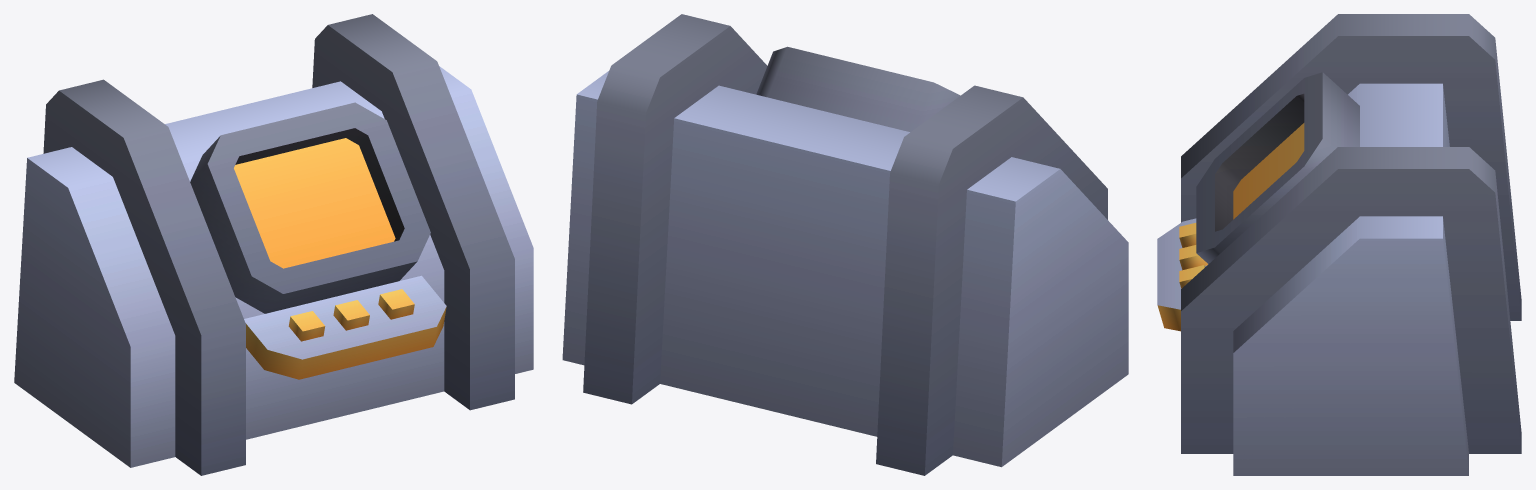
Rendered from k-space-station-computer-system.glb.
3 views of the same model, side by side, from view 1: azimuth 30°, elevation 25°; view 2: azimuth 150°, elevation 25°; view 3: azimuth 270°, elevation 25° (orthographic). The views are drawn at different scales.
Parts seen in each view (by area): view 1: computer-system; view 2: computer-system; view 3: computer-system.
Boxes of the visible parts, left/top/right/bottom form: computer-system: left=14, top=14, right=533, bottom=475; computer-system: left=562, top=14, right=1128, bottom=475; computer-system: left=1157, top=14, right=1521, bottom=475.
Bounding box in the file's own units: 0.9 × 0.6 × 0.6949.
Materials: 1 (1 with a texture image).
